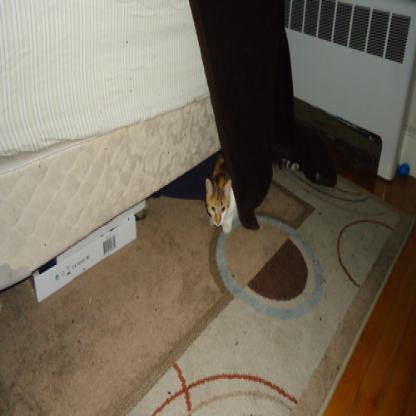Target: (204, 156, 240, 236)
